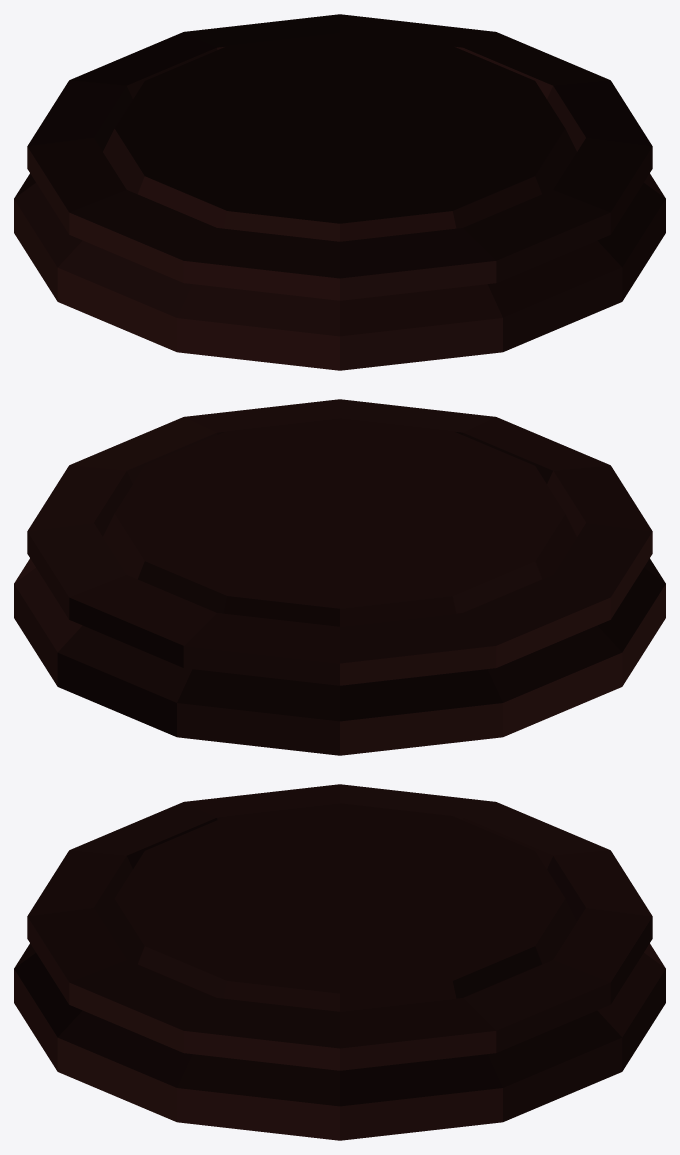
Rendered from Base Plate.fbx.
3 views of the same model, one above another, from view 1: azimuth 30°, elevation 25°; view 2: azimuth 150°, elevation 25°; view 3: azimuth 270°, elevation 25° (orthographic).
Parts seen in each view (by area): view 1: Node 0; view 2: Node 0; view 3: Node 0.
Part boxes in pixels (box(x1,y1,x2,y2)): Node 0: box(14, 14, 665, 370); Node 0: box(14, 399, 665, 755); Node 0: box(14, 784, 665, 1140).
Bounding box in the file's own units: 0.3624 × 0.0641 × 0.3624.
